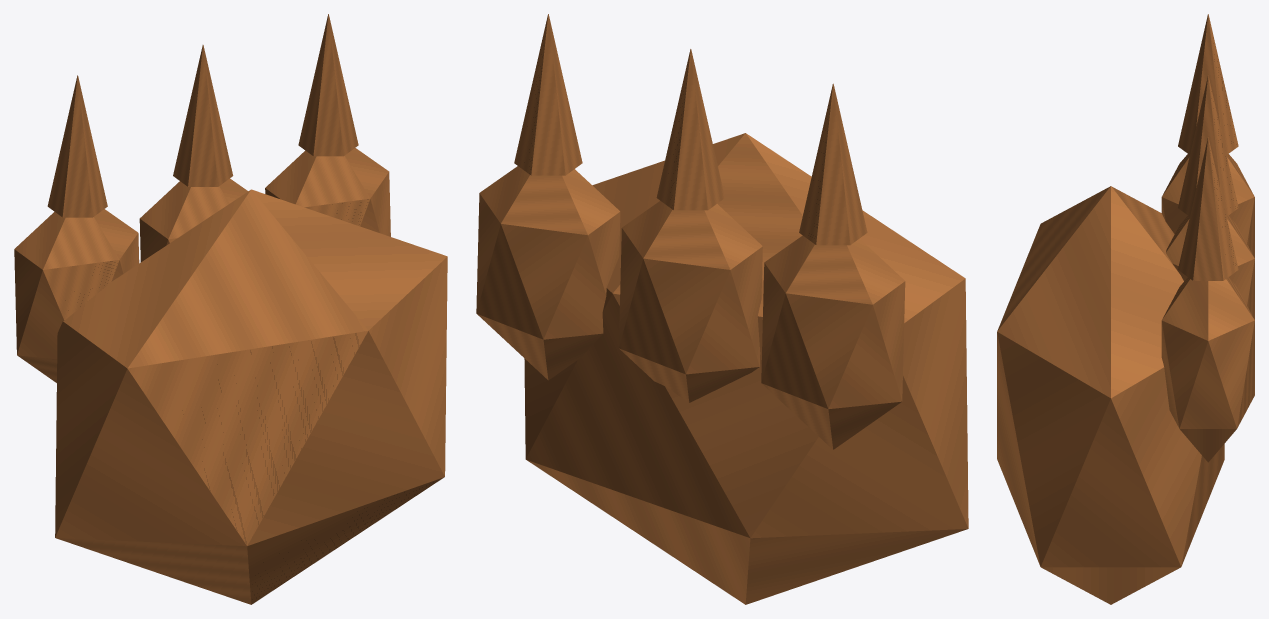
File: contact_mine.glb
The picture shows the model from 3 angles, left to right: view 1: azimuth 30°, elevation 25°; view 2: azimuth 150°, elevation 25°; view 3: azimuth 270°, elevation 25°; orthographic projection. The views are drawn at different scales.
Visible parts, largest first — view 1: gear_contact_mine; view 2: gear_contact_mine; view 3: gear_contact_mine.
Part boxes in pixels (x1,y1,x2,y2): gear_contact_mine: [14, 14, 447, 604]; gear_contact_mine: [476, 14, 968, 604]; gear_contact_mine: [997, 14, 1254, 604].
Size of the model in its own units: 0.3757 by 0.48 by 0.2118.
1 material, 1 textured.
